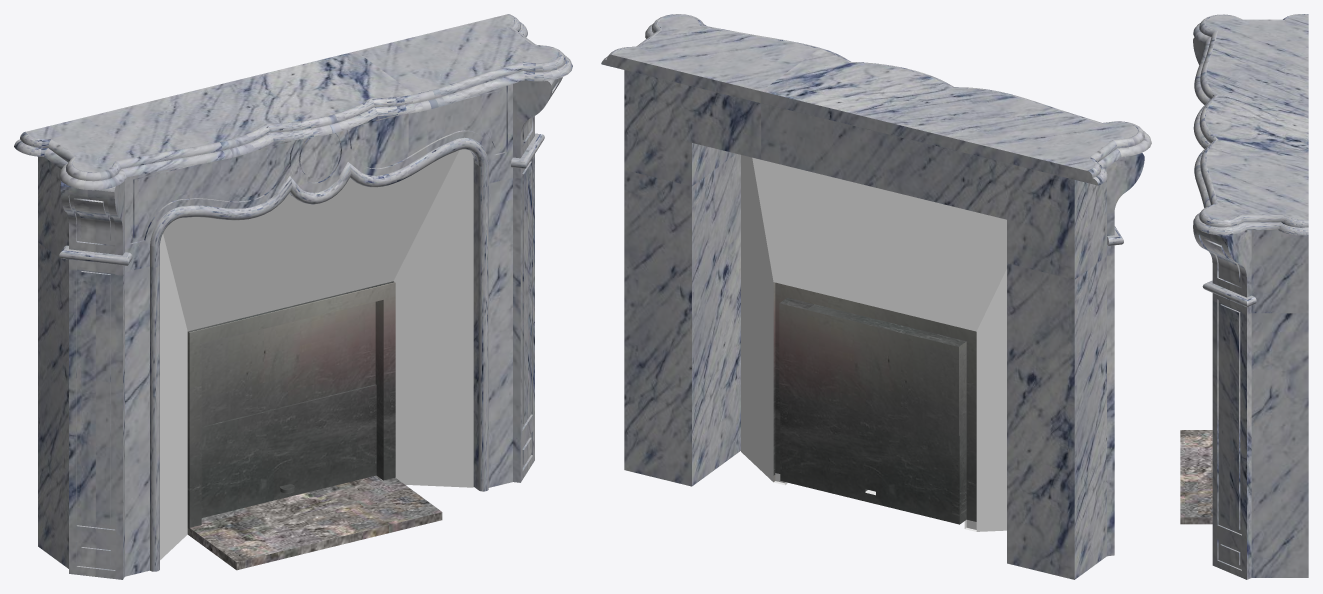
The model's file is fireplace2.FBX.
3 views of the same model, side by side, from view 1: azimuth 30°, elevation 25°; view 2: azimuth 150°, elevation 25°; view 3: azimuth 270°, elevation 25° (orthographic). The views are drawn at different scales.
Visible parts, largest first — view 1: Group2, cheminée, Group1, Composant_1_2, Composant_1_1, Composant_2_1, Composant_2_2; view 2: cheminée, Group2, Group1, Composant_1_2, Composant_2_1; view 3: Group1, cheminée, Composant_1_1, Group2, Composant_2_2, Composant_2_1.
Boxes of the visible parts, x1=… form: Group2: x1=160, y1=149, x2=473, y2=570; cheminée: x1=38, y1=84, x2=512, y2=576; Group1: x1=14, y1=14, x2=572, y2=190; Composant_1_2: x1=59, y1=245, x2=132, y2=579; Composant_1_1: x1=511, y1=133, x2=544, y2=482; Composant_2_1: x1=60, y1=181, x2=124, y2=255; Composant_2_2: x1=513, y1=77, x2=562, y2=158; cheminée: x1=624, y1=70, x2=1106, y2=579; Group2: x1=741, y1=155, x2=1006, y2=531; Group1: x1=601, y1=14, x2=1151, y2=185; Composant_1_2: x1=1107, y1=226, x2=1123, y2=556; Composant_2_1: x1=1107, y1=153, x2=1144, y2=235; Group1: x1=1193, y1=14, x2=1308, y2=235; cheminée: x1=1251, y1=230, x2=1308, y2=577; Composant_1_1: x1=1202, y1=280, x2=1256, y2=579; Group2: x1=1180, y1=430, x2=1212, y2=524; Composant_2_2: x1=1193, y1=224, x2=1251, y2=297; Composant_2_1: x1=1193, y1=37, x2=1204, y2=64.
Size of the model in its own units: 58.1 by 45.84 by 14.7.
4 materials, 3 textured.
